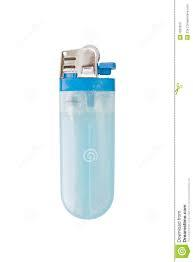lighter: (59, 45, 114, 220)
